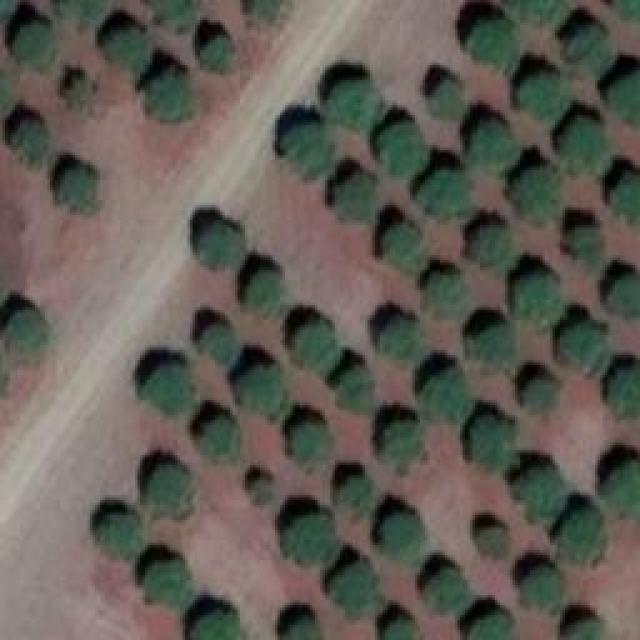Tree: (552, 505, 610, 565), (412, 367, 470, 425), (468, 415, 521, 475), (370, 123, 430, 173), (143, 360, 196, 415), (278, 510, 333, 563), (380, 418, 433, 473), (330, 562, 380, 620), (513, 273, 566, 326), (5, 307, 53, 365), (143, 463, 193, 518), (235, 365, 285, 420), (465, 118, 515, 173), (103, 25, 156, 75), (515, 463, 563, 518), (420, 172, 475, 220), (557, 118, 605, 173), (468, 20, 523, 68), (145, 62, 190, 120), (557, 25, 615, 70), (193, 222, 246, 270), (515, 168, 563, 221), (283, 125, 333, 175), (330, 80, 380, 130), (53, 165, 103, 213), (600, 460, 640, 520), (330, 365, 378, 415), (420, 272, 470, 320), (92, 512, 140, 560), (423, 563, 468, 613), (285, 323, 335, 368), (10, 20, 55, 68), (333, 175, 378, 223), (467, 220, 515, 265), (380, 510, 423, 560), (192, 420, 240, 463), (243, 270, 286, 318), (378, 317, 421, 365), (565, 225, 608, 273), (0, 115, 45, 160), (523, 563, 563, 613), (470, 328, 520, 368), (558, 325, 603, 368), (520, 73, 565, 116), (142, 0, 202, 32), (602, 365, 640, 415), (602, 273, 640, 323), (288, 420, 331, 463), (378, 225, 421, 268), (602, 72, 640, 120), (148, 563, 188, 608), (190, 325, 235, 363), (605, 170, 640, 218), (200, 33, 238, 76), (507, 0, 565, 28), (428, 80, 468, 120), (520, 375, 558, 415), (60, 78, 95, 121), (465, 615, 523, 640), (60, 0, 105, 30), (237, 0, 285, 28), (195, 612, 243, 640), (475, 525, 508, 563), (335, 480, 373, 508), (283, 615, 323, 640), (243, 477, 273, 505), (565, 620, 603, 640), (382, 617, 415, 640), (607, 0, 640, 22)
